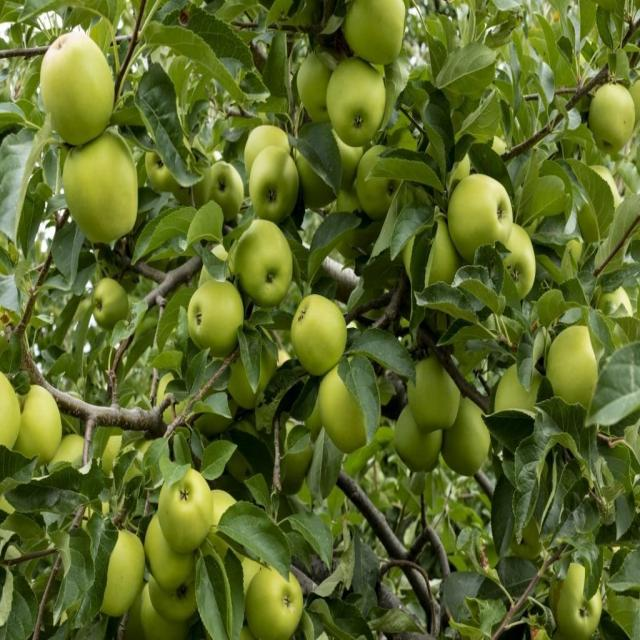Green Apple: (64, 129, 145, 244), (37, 30, 120, 140), (546, 326, 608, 420), (499, 364, 564, 449), (453, 173, 512, 261), (318, 356, 378, 442), (236, 218, 295, 304), (331, 54, 388, 143), (409, 351, 469, 433), (544, 561, 602, 639), (99, 526, 148, 616), (343, 1, 411, 64), (249, 562, 304, 638), (448, 391, 499, 469), (148, 511, 198, 589), (488, 219, 538, 297), (189, 282, 245, 351), (411, 214, 462, 289), (251, 145, 301, 221), (334, 182, 384, 257), (579, 165, 627, 241), (296, 45, 346, 117), (17, 385, 64, 460), (295, 295, 347, 362), (358, 142, 405, 216), (160, 470, 208, 542), (395, 405, 449, 469), (592, 81, 638, 150), (270, 421, 314, 492), (299, 141, 347, 203), (202, 489, 244, 558), (248, 124, 291, 183), (230, 346, 270, 408), (234, 550, 272, 613), (149, 571, 199, 618), (143, 582, 183, 639), (148, 140, 188, 196), (1, 374, 25, 458), (209, 160, 244, 213), (97, 276, 129, 329), (54, 441, 93, 484), (160, 375, 194, 423), (100, 432, 127, 468)
